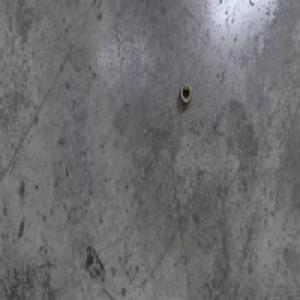Nut: (179, 82, 192, 105)
